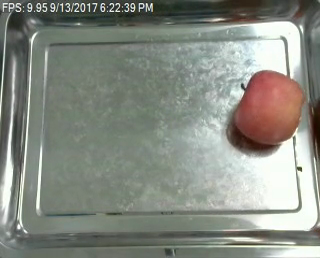Apple: (232, 67, 304, 151)
